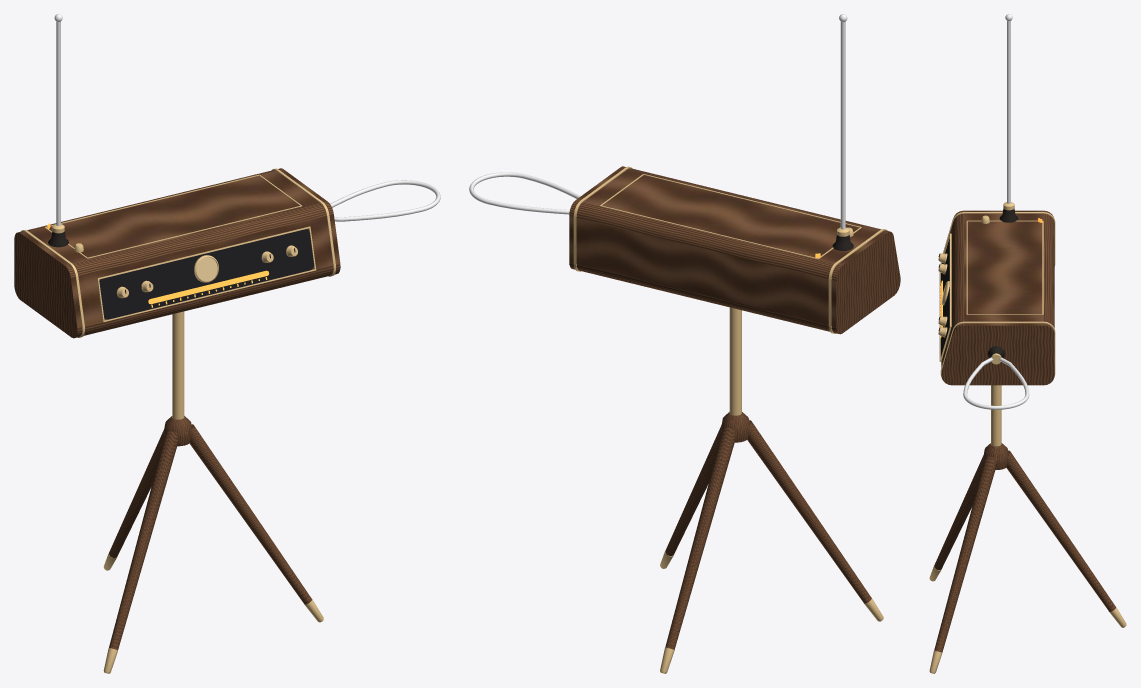
Rendered from theremin.glb.
The picture shows the model from 3 angles, left to right: view 1: azimuth 30°, elevation 25°; view 2: azimuth 150°, elevation 25°; view 3: azimuth 270°, elevation 25°; orthographic projection. The views are drawn at different scales.
Parts seen in each view (by area): view 1: Theremin_Cabinet, Theremin_Stand, Theremin_Panel, Antenna_Pitch, Antenna_Volume, Theremin_Knobs, Theremin_Meter; view 2: Theremin_Cabinet, Theremin_Stand, Antenna_Pitch, Antenna_Volume; view 3: Theremin_Cabinet, Theremin_Stand, Antenna_Pitch, Antenna_Volume, Theremin_Panel, Theremin_Knobs.
Boxes of the visible parts, left/top/right/bottom form: Theremin_Cabinet: left=14, top=168, right=340, bottom=338; Theremin_Stand: left=103, top=311, right=323, bottom=673; Theremin_Panel: left=97, top=226, right=316, bottom=322; Antenna_Pitch: left=48, top=14, right=68, bottom=247; Antenna_Volume: left=330, top=180, right=440, bottom=221; Theremin_Knobs: left=74, top=243, right=297, bottom=298; Theremin_Meter: left=47, top=223, right=268, bottom=307; Theremin_Cabinet: left=569, top=166, right=900, bottom=334; Theremin_Stand: left=660, top=307, right=883, bottom=673; Antenna_Pitch: left=832, top=14, right=853, bottom=250; Antenna_Volume: left=469, top=172, right=580, bottom=214; Theremin_Cabinet: left=940, top=210, right=1055, bottom=385; Theremin_Stand: left=929, top=385, right=1126, bottom=673; Antenna_Pitch: left=999, top=14, right=1018, bottom=222; Antenna_Volume: left=963, top=346, right=1029, bottom=409; Theremin_Panel: left=939, top=233, right=951, bottom=361; Theremin_Knobs: left=938, top=215, right=989, bottom=337.
Bounding box in the file's own units: 1.03 × 1.6 × 0.5072.
Materials: 9 (1 with a texture image).
